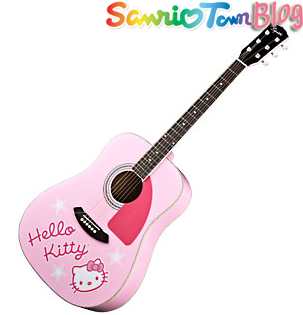guitar: (18, 23, 289, 312)
